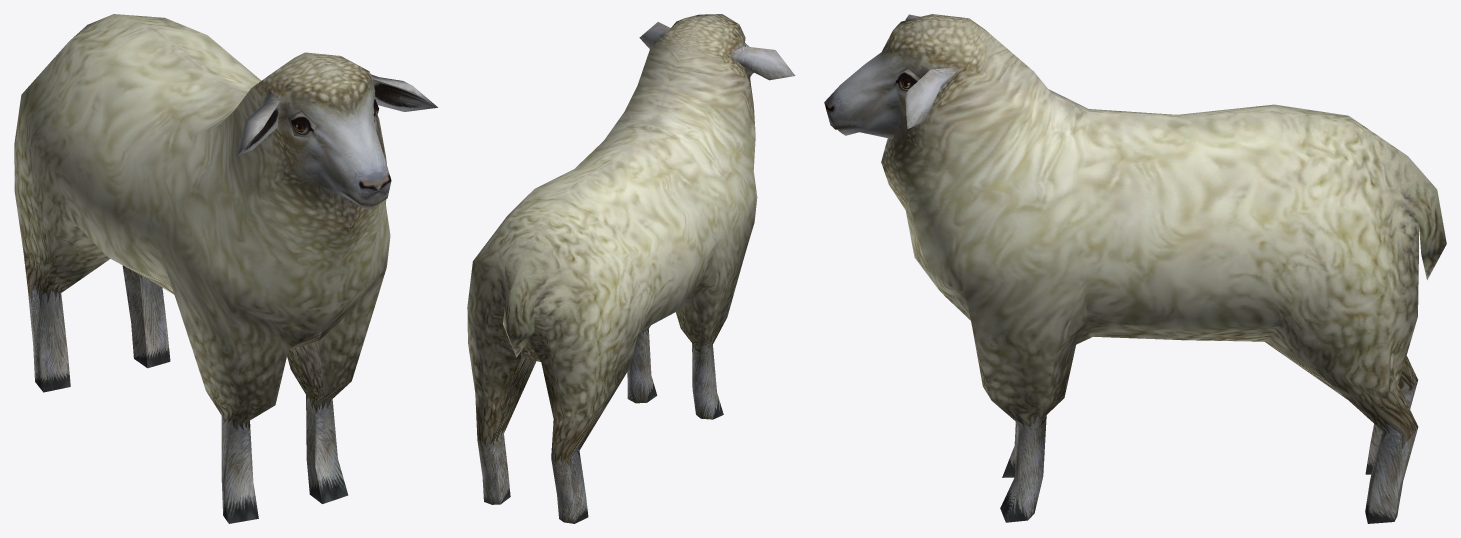
Rendered from sheep-stand1-cbj_LOD00.gltf.
The picture shows the model from 3 angles, left to right: view 1: azimuth 30°, elevation 25°; view 2: azimuth 150°, elevation 25°; view 3: azimuth 270°, elevation 25°; orthographic projection. The views are drawn at different scales.
Visible parts, largest first — view 1: node2; view 2: node2; view 3: node2.
Part boxes in pixels (x1,y1,x2,y2): node2: [14, 14, 437, 523]; node2: [467, 14, 795, 523]; node2: [824, 14, 1446, 523].
Size of the model in its own units: 0.578 by 1.23 by 1.46.
